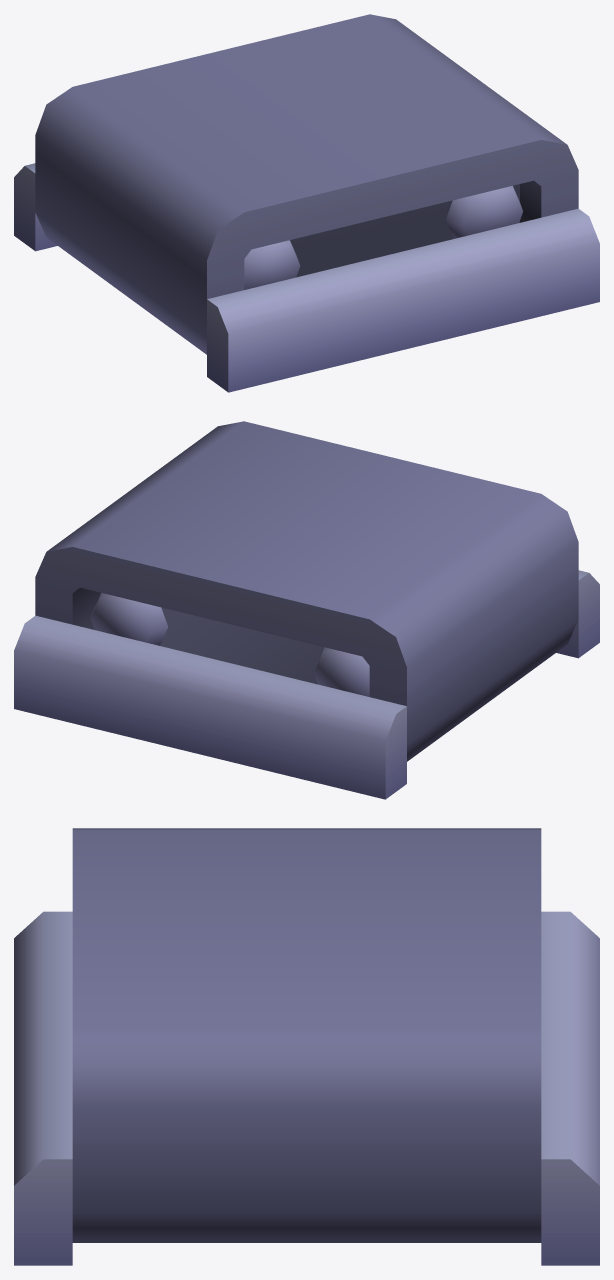
File: kenney-conveyor-conveyor-sides.glb
3 views of the same model, one above another, from view 1: azimuth 30°, elevation 25°; view 2: azimuth 150°, elevation 25°; view 3: azimuth 270°, elevation 25° (orthographic). The views are drawn at different scales.
Visible parts, largest first — view 1: conveyor-sides; view 2: conveyor-sides; view 3: conveyor-sides.
Part boxes in pixels (box(x1,y1,x2,y2)): conveyor-sides: box(14, 14, 599, 392); conveyor-sides: box(14, 421, 599, 799); conveyor-sides: box(14, 828, 599, 1265).
Size of the model in its own units: 1 by 0.3999 by 1.
Materials: 1 (1 with a texture image).
